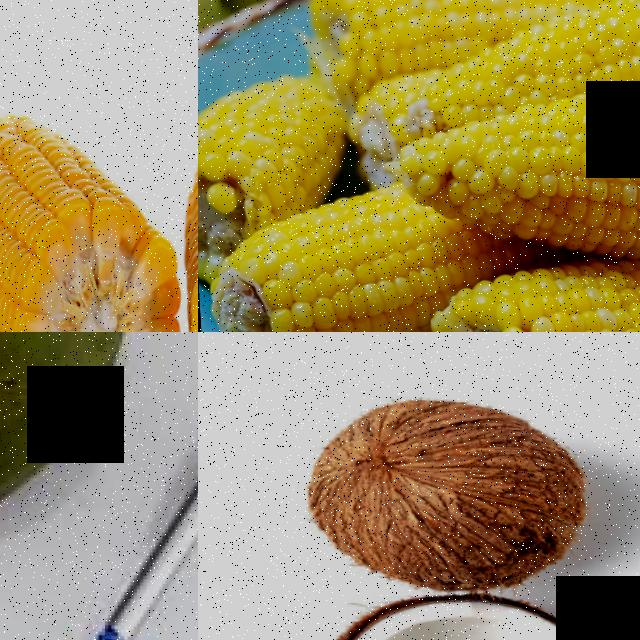coconut: (290, 388, 606, 598), (0, 332, 159, 576), (311, 587, 609, 640)
corn: (0, 104, 193, 332), (396, 79, 640, 256), (225, 188, 444, 332), (198, 62, 358, 228), (308, 0, 544, 97), (451, 245, 640, 332), (532, 0, 640, 121)
